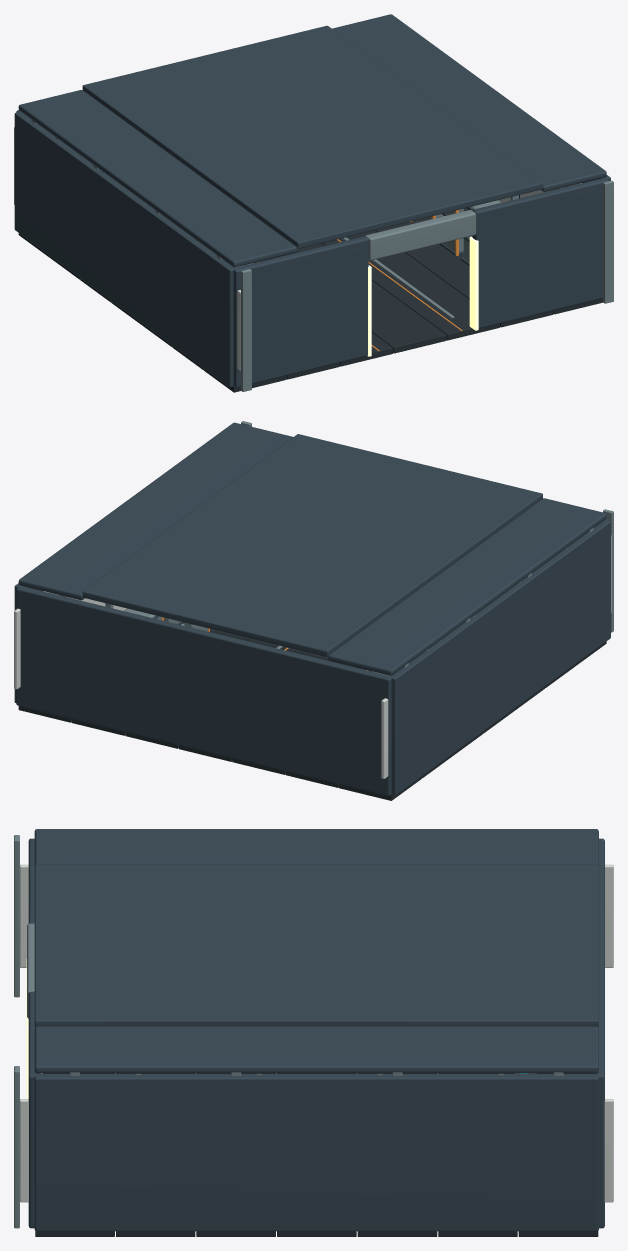
File: cargo_room.glb
The picture shows the model from 3 angles, top to bottom: view 1: azimuth 30°, elevation 25°; view 2: azimuth 150°, elevation 25°; view 3: azimuth 270°, elevation 25°; orthographic projection. The views are drawn at different scales.
Visible parts, largest first — view 1: cargo_room; view 2: cargo_room; view 3: cargo_room.
Part boxes in pixels (bbox=[...]): cargo_room: bbox=[14, 14, 613, 392]; cargo_room: bbox=[14, 421, 613, 800]; cargo_room: bbox=[14, 829, 613, 1236].
Size of the model in its own units: 14.3 by 4.82 by 14.89.
